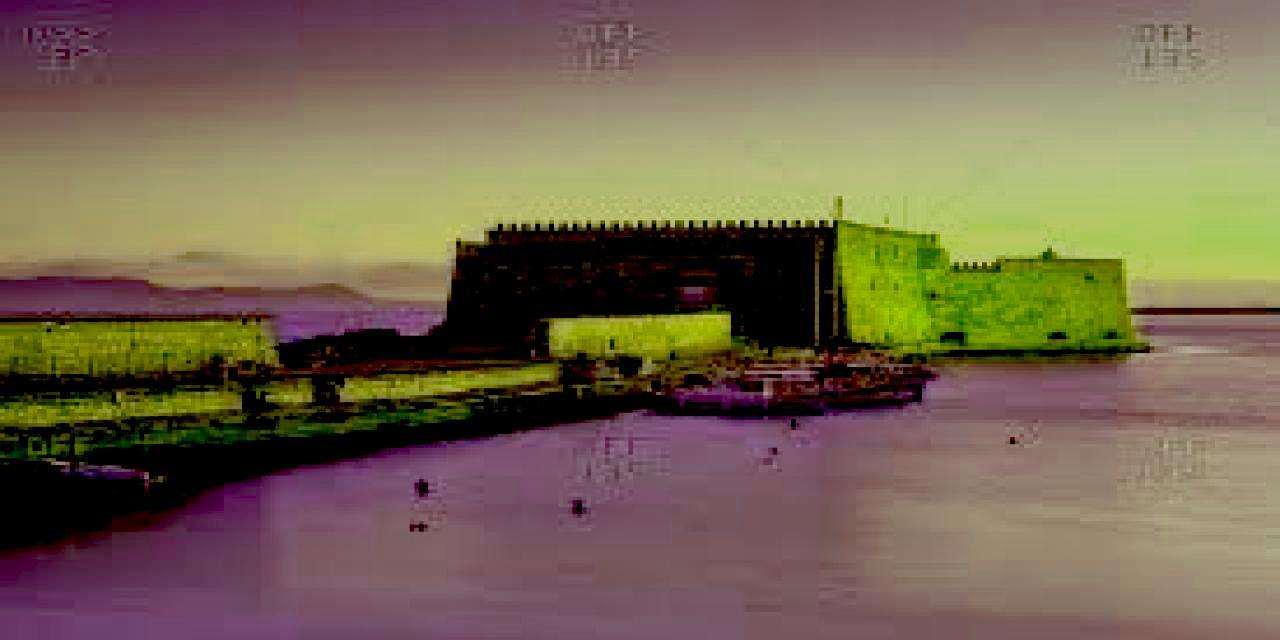Kules: (444, 199, 1156, 358)
